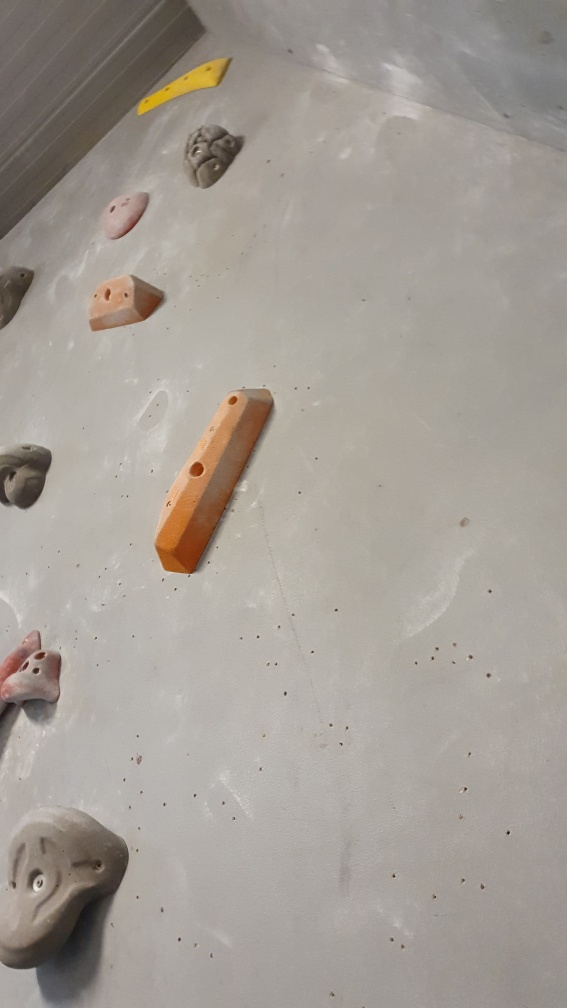Jug: (181, 123, 243, 193)
Pinch: (156, 382, 276, 577), (85, 275, 167, 328)
